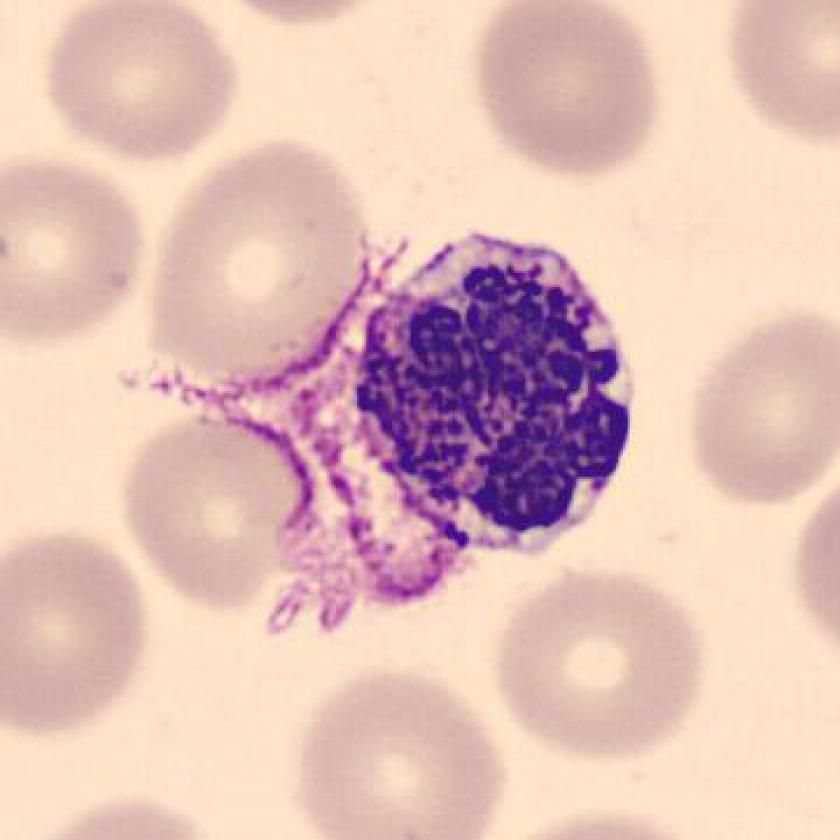basophil: (349, 219, 633, 566)
